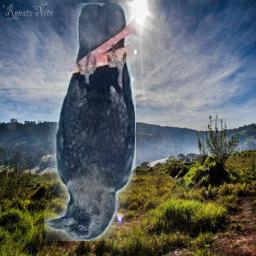Crow: (44, 3, 136, 241)
